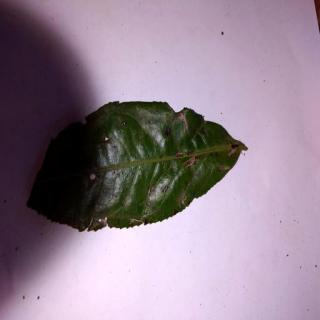Bird Eye Spot: (31, 101, 248, 233)
